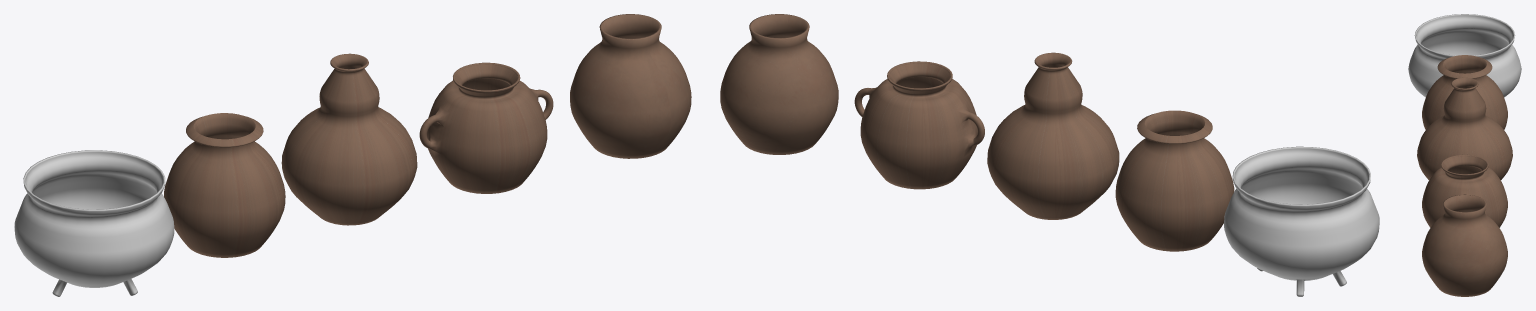
Rendered from Pots_2 (1).fbx.
3 views of the same model, side by side, from view 1: azimuth 30°, elevation 25°; view 2: azimuth 150°, elevation 25°; view 3: azimuth 270°, elevation 25° (orthographic). The views are drawn at different scales.
Visible parts, largest first — view 1: Circle.004, Circle.001, Circle, Circle.003, Circle.002; view 2: Circle.004, Circle.001, Circle, Circle.003, Circle.002; view 3: Circle.003, Circle.004, Circle.001, Circle.002, Circle.
Boxes of the visible parts, x1,y1,x2,y2 form: Circle.004: (14, 150, 174, 296); Circle.001: (281, 53, 417, 225); Circle: (164, 113, 285, 257); Circle.003: (570, 14, 691, 158); Circle.002: (419, 62, 553, 193); Circle.004: (1224, 146, 1379, 296); Circle.001: (987, 52, 1119, 219); Circle: (1115, 110, 1234, 251); Circle.003: (720, 14, 838, 154); Circle.002: (854, 61, 984, 189); Circle.003: (1422, 194, 1507, 296); Circle.004: (1408, 14, 1521, 97); Circle.001: (1417, 77, 1512, 179); Circle.002: (1422, 154, 1507, 227); Circle: (1422, 55, 1507, 129).
Size of the model in its own units: 968 by 227 by 204.
